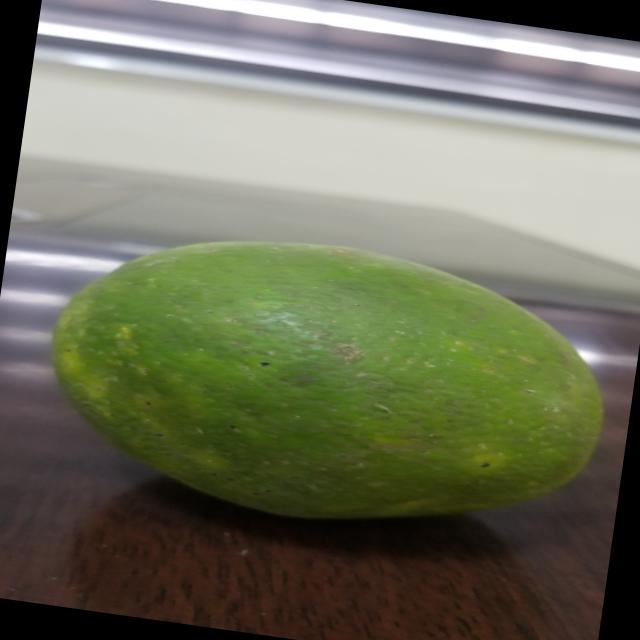Ripe orange: (29, 187, 640, 567)
